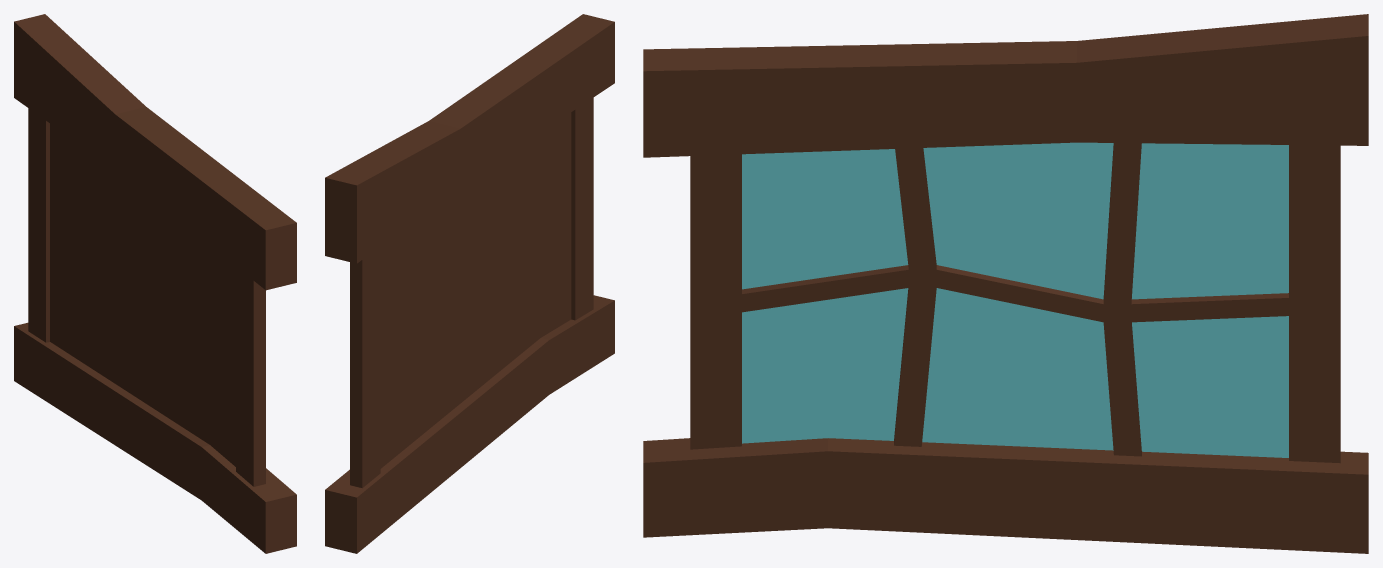
Rendered from StiltWindowSmall_02.fbx.
The picture shows the model from 3 angles, left to right: view 1: azimuth 30°, elevation 25°; view 2: azimuth 150°, elevation 25°; view 3: azimuth 270°, elevation 25°; orthographic projection. The views are drawn at different scales.
Parts seen in each view (by area): view 1: Window_2; view 2: Window_2; view 3: Window_2.
Part boxes in pixels (x1,y1,x2,y2): Window_2: (14, 14, 296, 553); Window_2: (325, 14, 614, 553); Window_2: (643, 14, 1368, 553).
Size of the model in its own units: 3.79 by 41.84 by 53.11.
